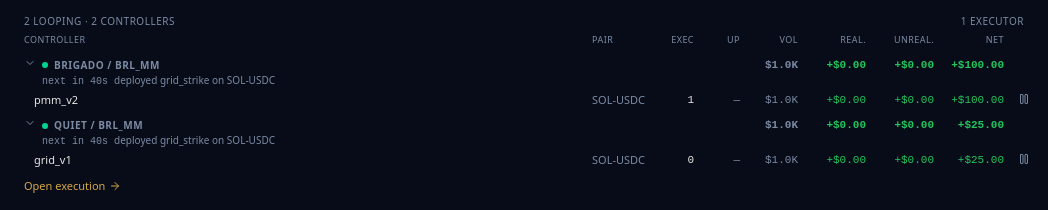
Test: the agent rows › expands into the controllers that agent deployed
The width and height of the screenshot is (1048, 210).
Click the button named "Collapse Brigado / brl_mm": coordinates (30, 62) [24,56,36,68]
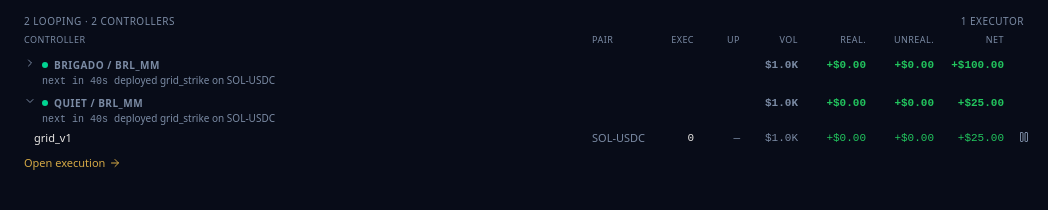
Check: the text "grid_v1" is shown, box [12,126,586,149]
Check: the text "pmm_v2" is gone
